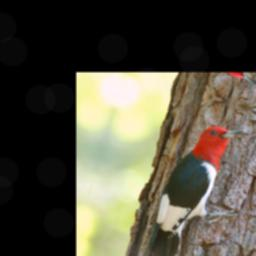Woodpecker: (144, 113, 256, 256)
